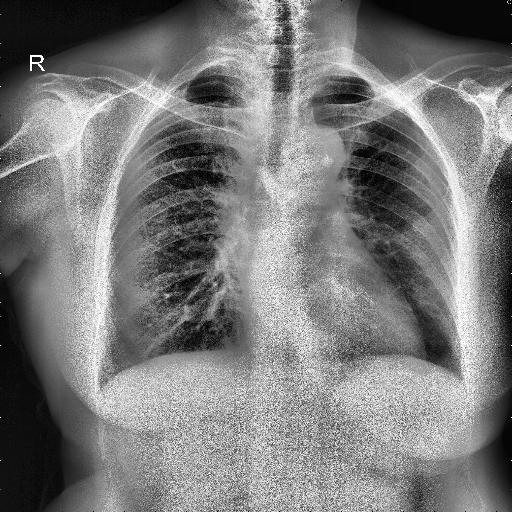0- Aortic enlargement: (282, 122, 346, 174), (292, 127, 348, 182), (302, 125, 344, 180)
11- Pleural thickening: (301, 64, 352, 86)
3- Cardiomegaly: (240, 296, 431, 366), (242, 313, 428, 365)
